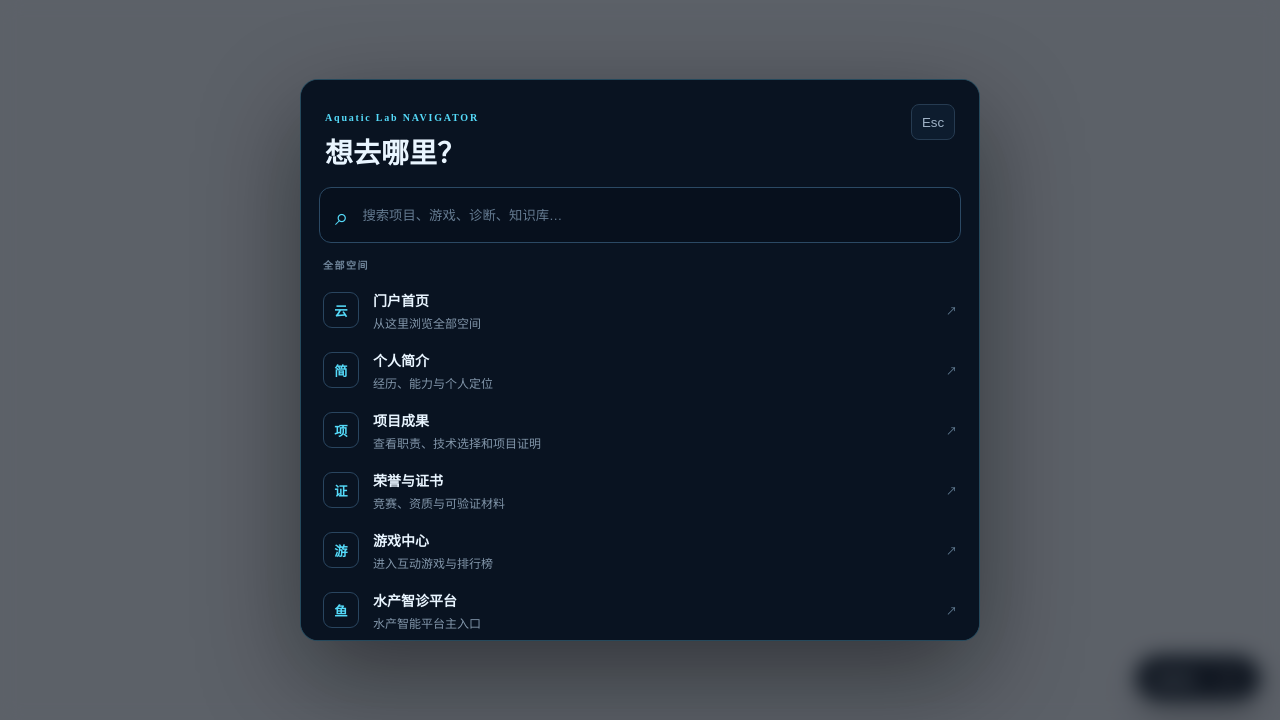
Test: CommandPalette › opens with Ctrl+K and filters destinations
The image size is (1280, 720).
Type "病害" into the search field labelled "⌕".
click(653, 215); type("病害")  # box [360, 188, 945, 242]
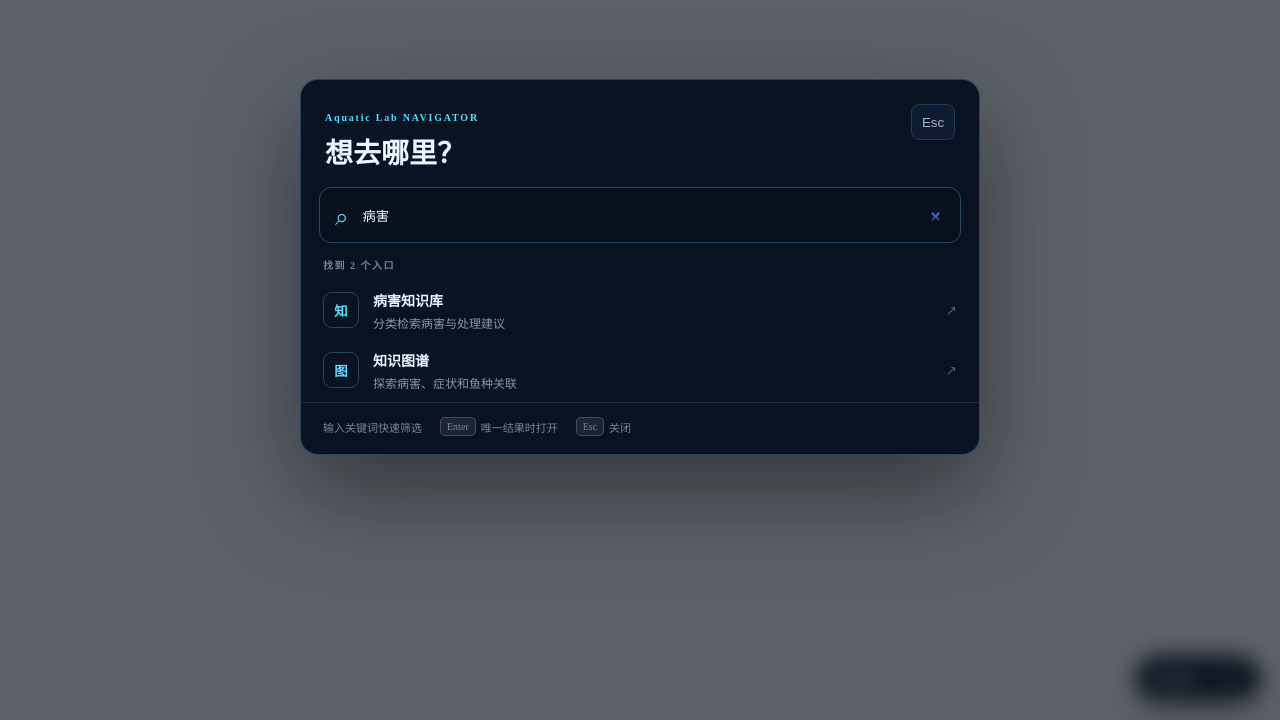
Result: the text "病害知识库" is shown at [373, 293, 443, 309]
Result: the text "荣誉与证书" is gone
